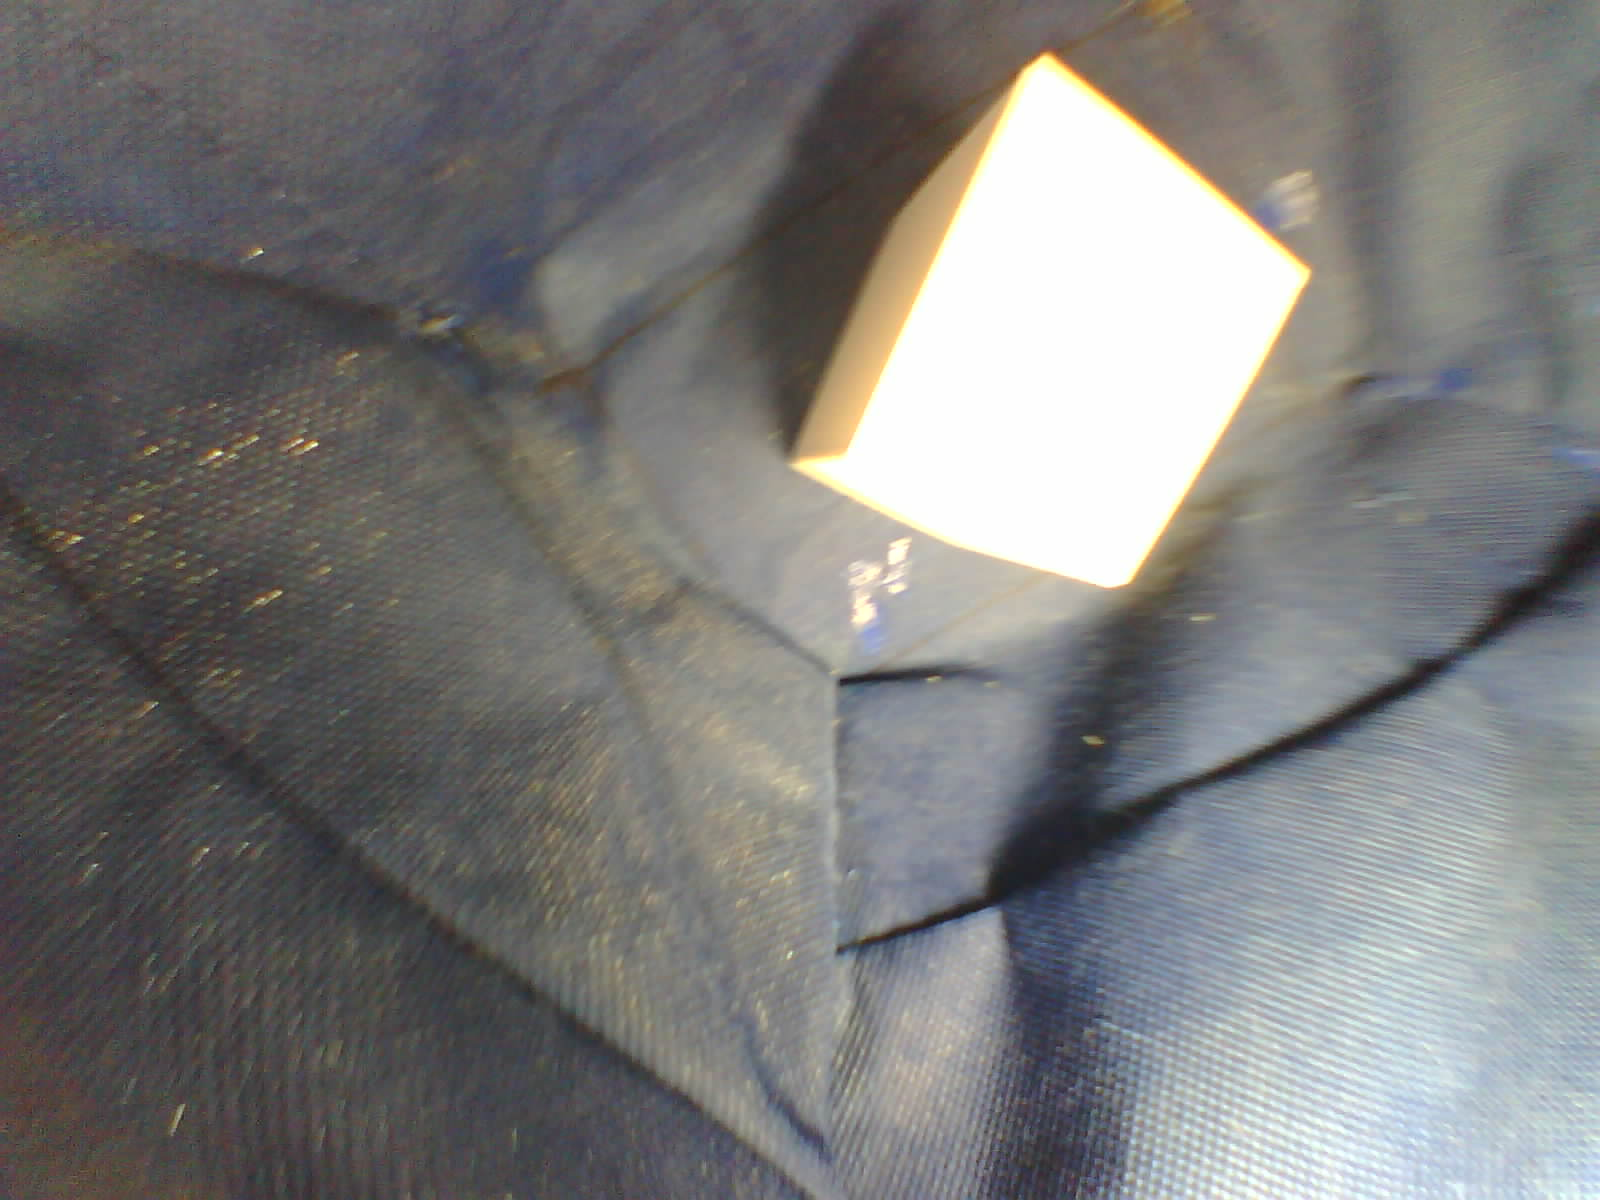cube-hard: (753, 40, 1320, 610)
